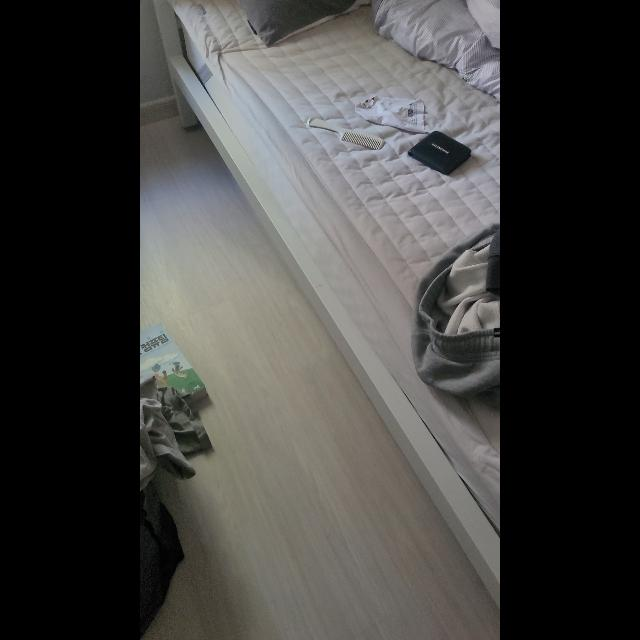COMB: (306, 116, 384, 150)
Glasses cleaning cloth: (354, 96, 426, 132)
WALLET: (408, 130, 472, 174)
